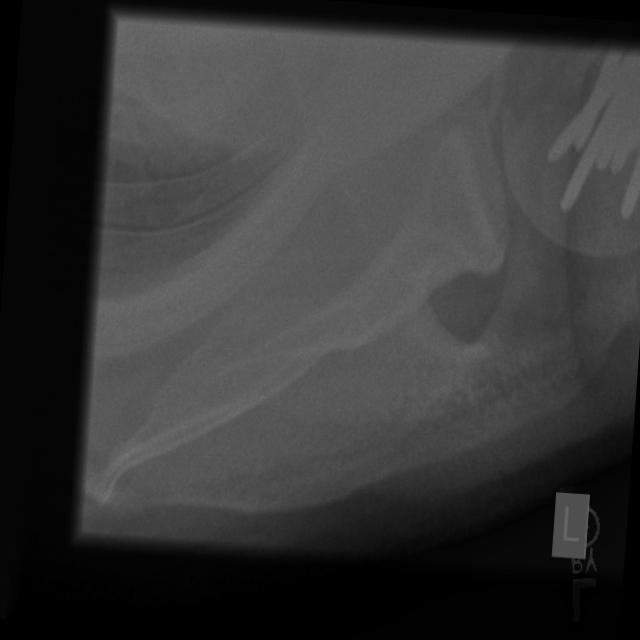shoulder fracture: (146, 258, 393, 469)
